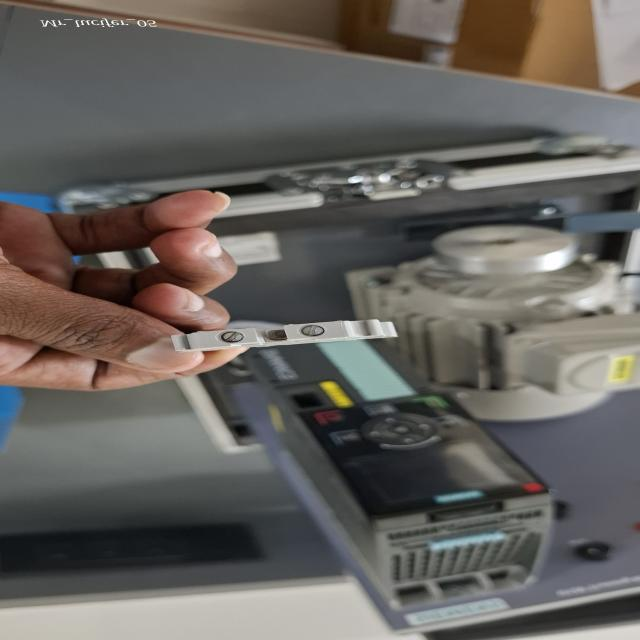Inverted: (170, 314, 417, 358)
